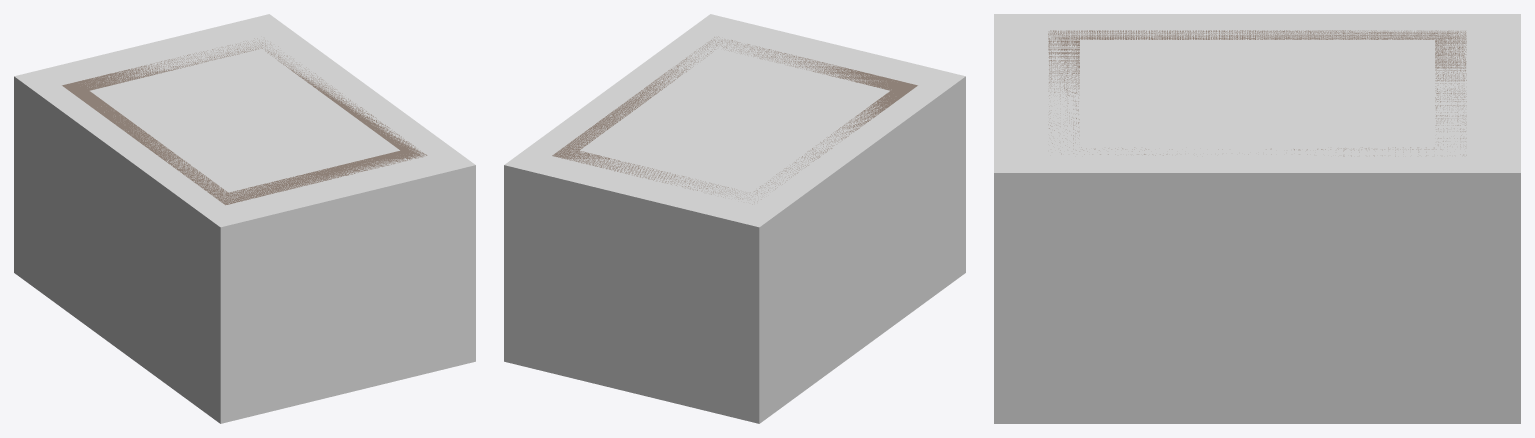
3 views of the same model, side by side, from view 1: azimuth 30°, elevation 25°; view 2: azimuth 150°, elevation 25°; view 3: azimuth 270°, elevation 25° (orthographic). The views are drawn at different scales.
Parts seen in each view (by area): view 1: Box_COL0, Box_LOD0; view 2: Box_COL0, Box_LOD0; view 3: Box_COL0, Box_LOD0.
Boxes of the visible parts, bbox=[...] form: Box_COL0: bbox=[14, 14, 475, 423]; Box_LOD0: bbox=[62, 38, 427, 205]; Box_COL0: bbox=[504, 14, 965, 423]; Box_LOD0: bbox=[552, 36, 917, 204]; Box_COL0: bbox=[994, 14, 1520, 423]; Box_LOD0: bbox=[1048, 30, 1466, 156].
Size of what is drawn, in the model's own units: 4.34 by 3.19 by 6.08.
